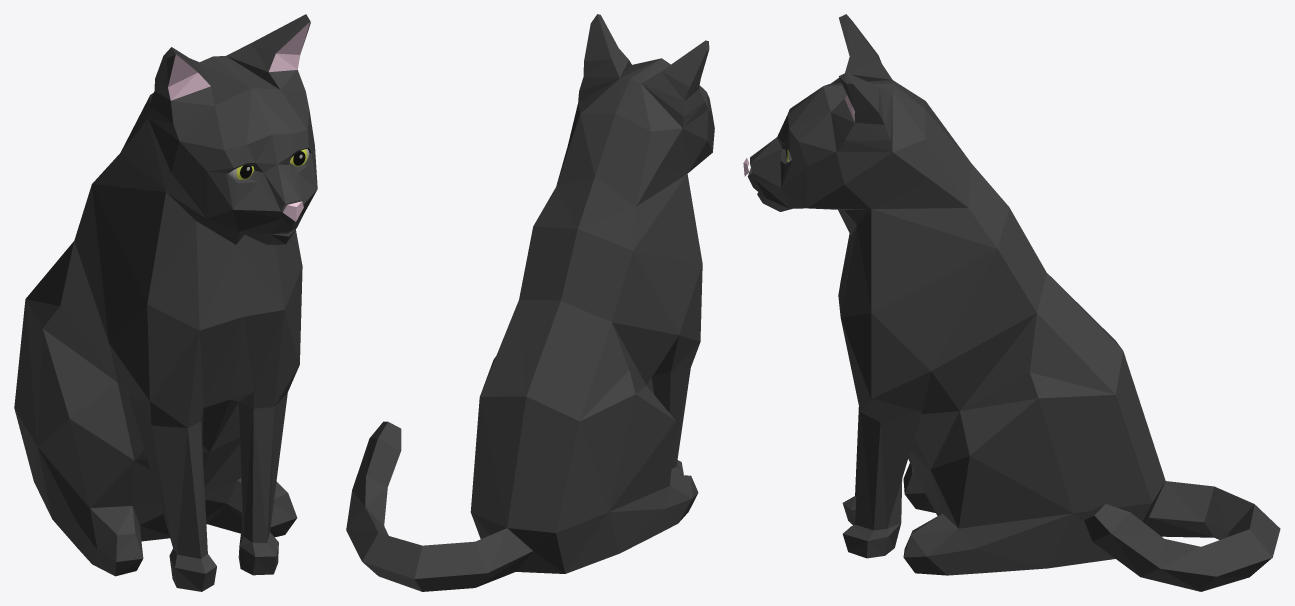
File: Cat1.fbx
The picture shows the model from 3 angles, left to right: view 1: azimuth 30°, elevation 25°; view 2: azimuth 150°, elevation 25°; view 3: azimuth 270°, elevation 25°; orthographic projection. The views are drawn at different scales.
Parts seen in each view (by area): view 1: Cat1; view 2: Cat1; view 3: Cat1.
Boxes of the visible parts, left/top/right/bottom form: Cat1: left=14, top=14, right=317, bottom=591; Cat1: left=346, top=14, right=714, bottom=591; Cat1: left=743, top=14, right=1280, bottom=591.
Bounding box in the file's own units: 285 × 499 × 492.
